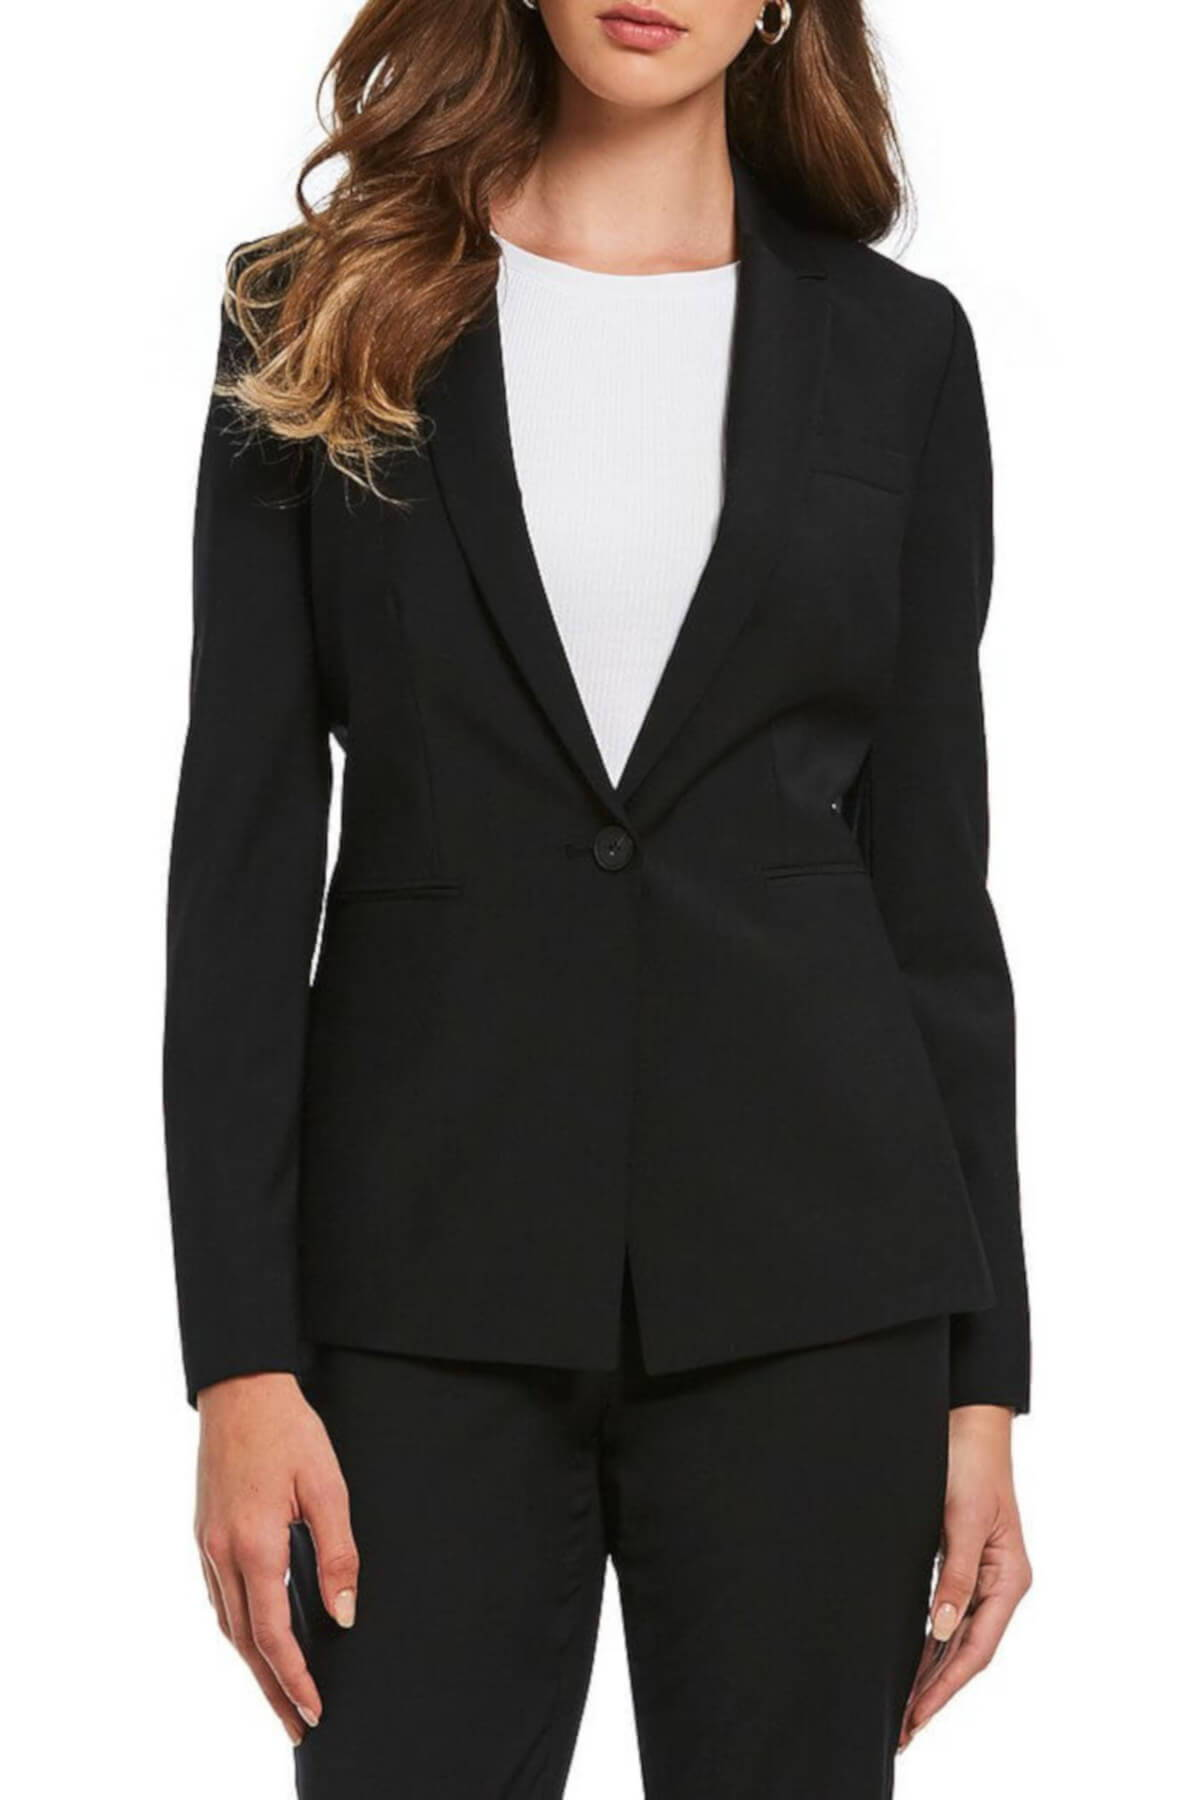F_W_suit jacket: (134, 169, 1059, 1434)
